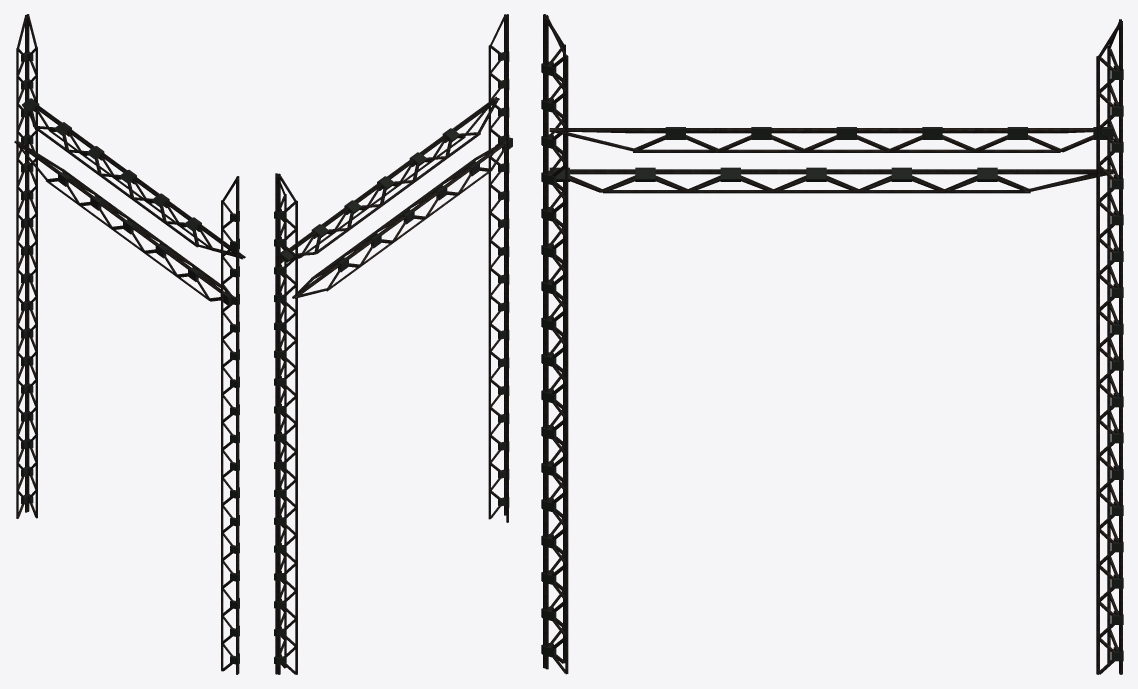
File: Pylone.fbx
3 renders of one model, left to right at view 1: azimuth 30°, elevation 25°; view 2: azimuth 150°, elevation 25°; view 3: azimuth 270°, elevation 25°, orthographic. The views are drawn at different scales.
Parts seen in each view (by area): view 1: Pylones; view 2: Pylones; view 3: Pylones.
Boxes of the visible parts, bbox=[...] form: Pylones: bbox=[14, 14, 245, 674]; Pylones: bbox=[274, 14, 512, 674]; Pylones: bbox=[541, 14, 1123, 674].
Size of the model in its own units: 16.95 by 395 by 319.
